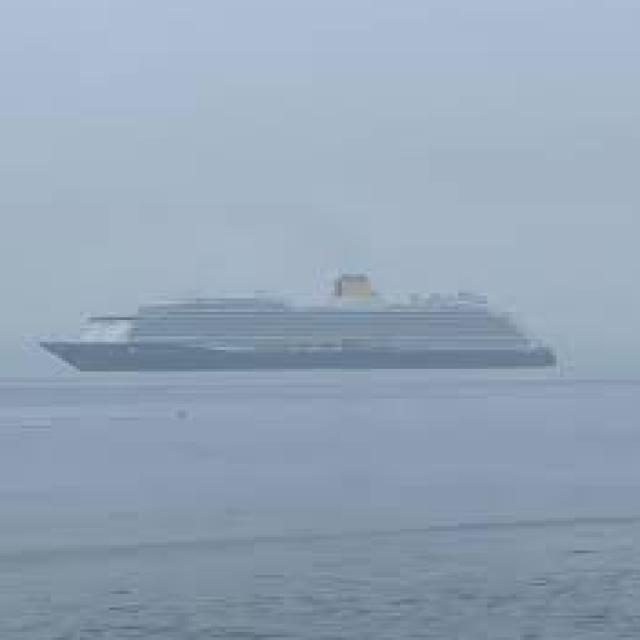passenger ship: (25, 264, 561, 378)
